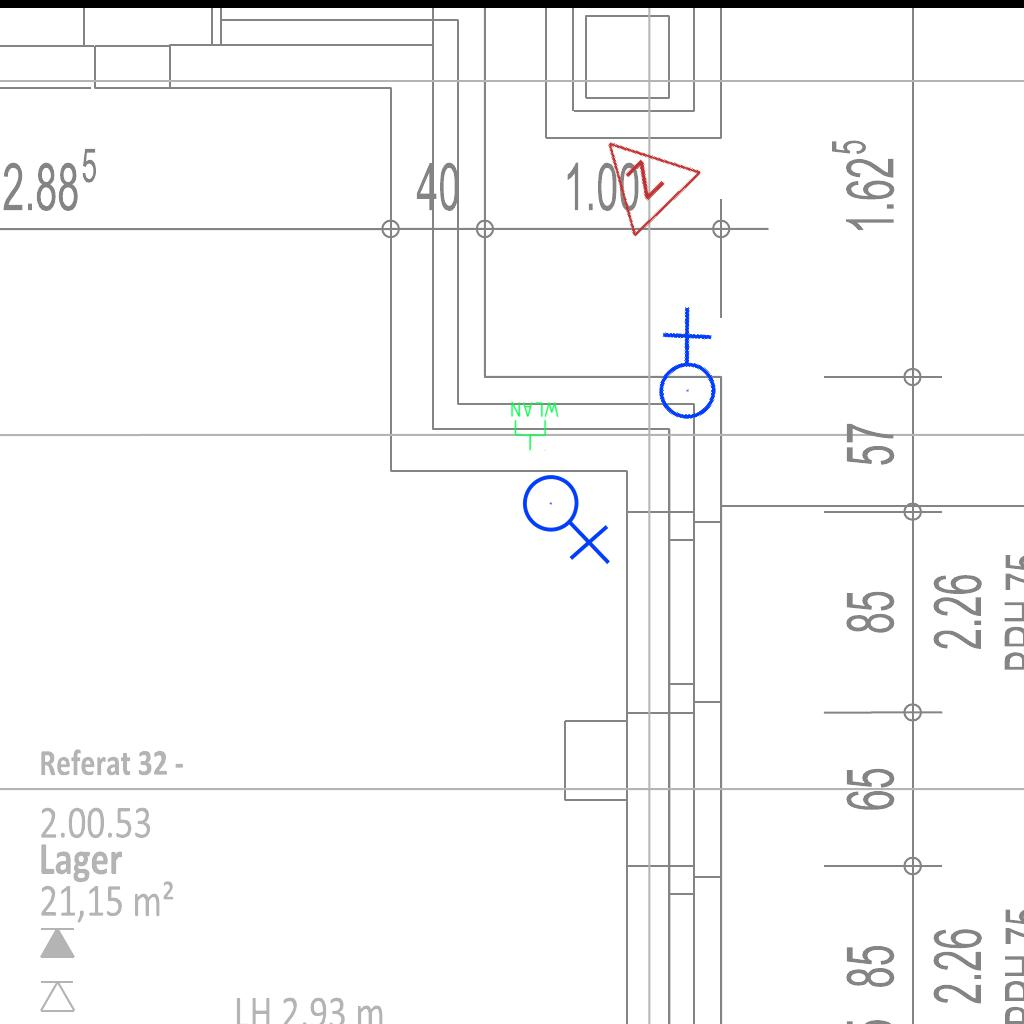Elektroanschluss_allgemein_230V_Geraeteanschlussdose_230V: (615, 301, 752, 439), (521, 466, 615, 565)
WLAN: (509, 400, 561, 452)
Zimmersignalleuchte: (568, 104, 708, 246)
